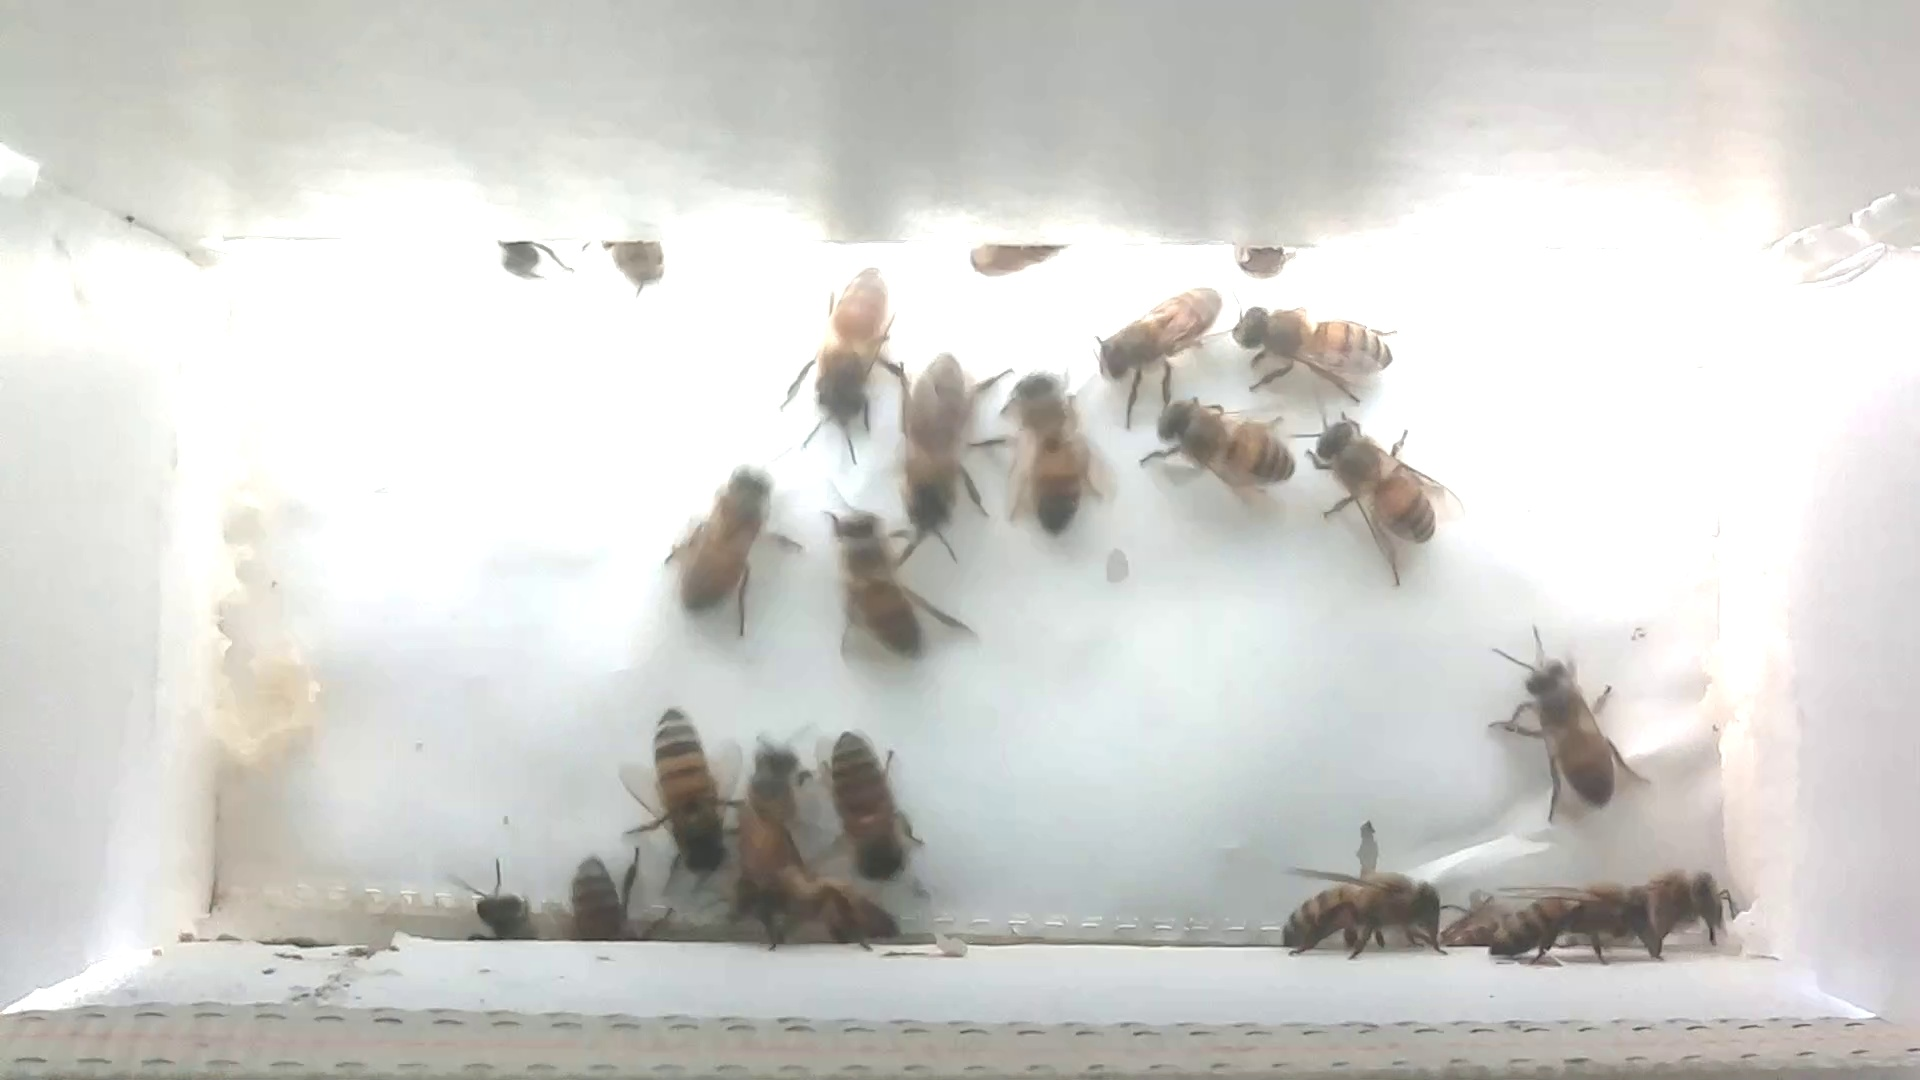bee: (1470, 615, 1664, 828), (803, 484, 978, 676), (1134, 364, 1320, 518), (655, 443, 800, 640), (1298, 400, 1458, 571), (769, 251, 903, 444), (800, 728, 945, 891), (615, 705, 752, 878), (1071, 280, 1234, 419), (1218, 294, 1414, 406), (1255, 855, 1447, 960), (890, 349, 996, 530), (984, 359, 1095, 530), (1487, 862, 1643, 976), (746, 869, 909, 965), (738, 741, 816, 909), (1619, 858, 1746, 959), (554, 848, 671, 955), (451, 872, 553, 959), (949, 228, 1065, 291), (1218, 233, 1313, 286), (597, 231, 678, 291), (489, 236, 568, 287)
